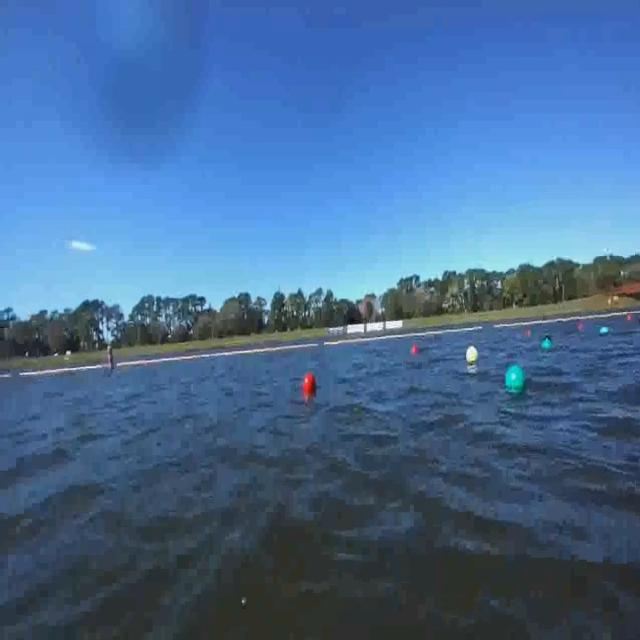green-buoy: (504, 364, 524, 395), (541, 339, 551, 352), (599, 326, 609, 335)
red-buoy: (303, 372, 315, 393), (410, 343, 419, 355)
yellow-buoy: (468, 346, 480, 364)
